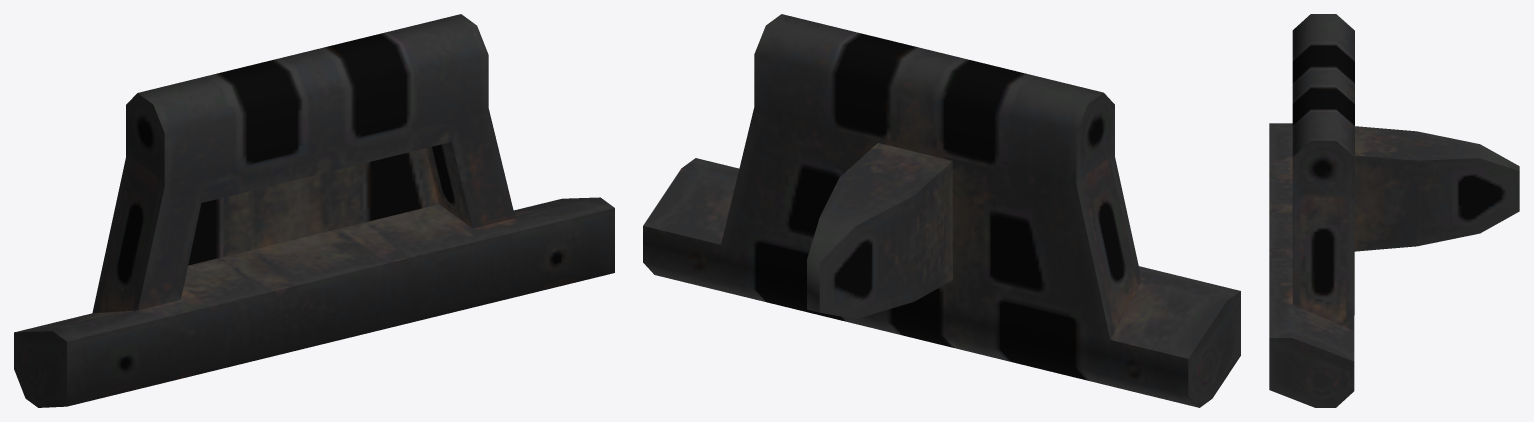
3 renders of one model, left to right at view 1: azimuth 30°, elevation 25°; view 2: azimuth 150°, elevation 25°; view 3: azimuth 270°, elevation 25°, orthographic. The views are drawn at different scales.
Visible parts, largest first — view 1: set_0_group_0; view 2: set_0_group_0; view 3: set_0_group_0.
Part boxes in pixels (<box>): set_0_group_0: <box>14,14,614,407</box>; set_0_group_0: <box>643,14,1240,407</box>; set_0_group_0: <box>1269,14,1519,407</box>.
Bounding box in the file's own units: 0.33 × 0.16 × 0.1624.
1 material, 1 textured.
